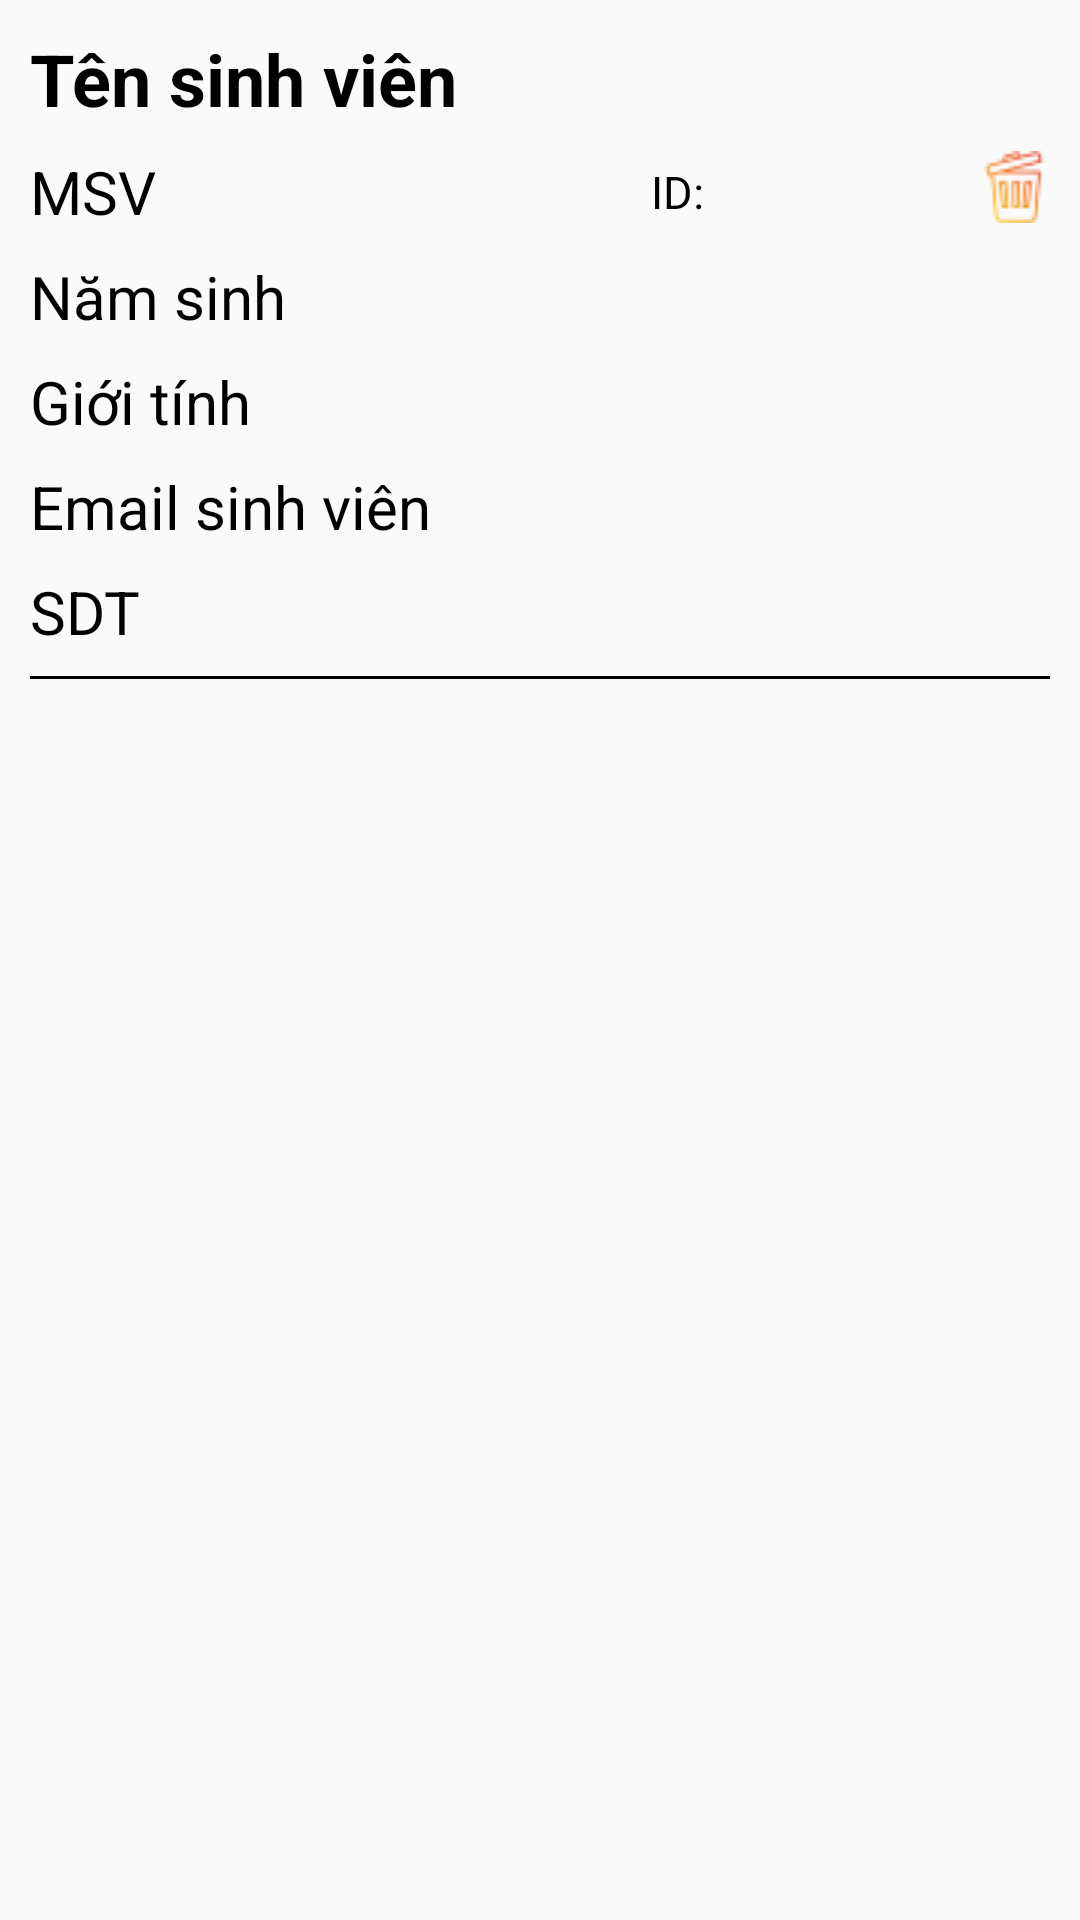

Icon bounding boxes for this 1080 × 1920 phone screenshot, format (x1, y1, x2, y2):
recycle bin: (984, 151, 1043, 223)
